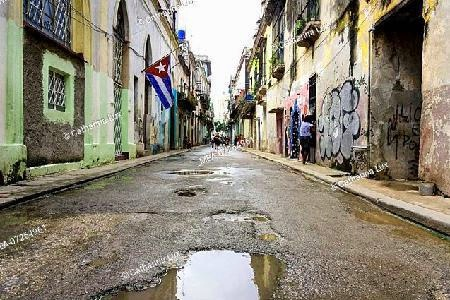pothole: (82, 244, 285, 296), (248, 206, 284, 242), (209, 206, 271, 222), (172, 185, 207, 197), (165, 167, 213, 174)
